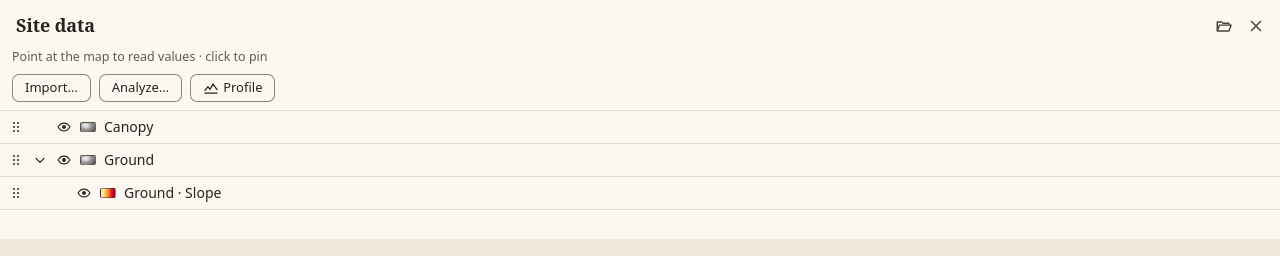
collapse and the view that survives switching panels › Show in Site data expands the item's source and opens it
Click the button named "Collapse Ground".
click(40, 160)  # box [32,152,48,168]
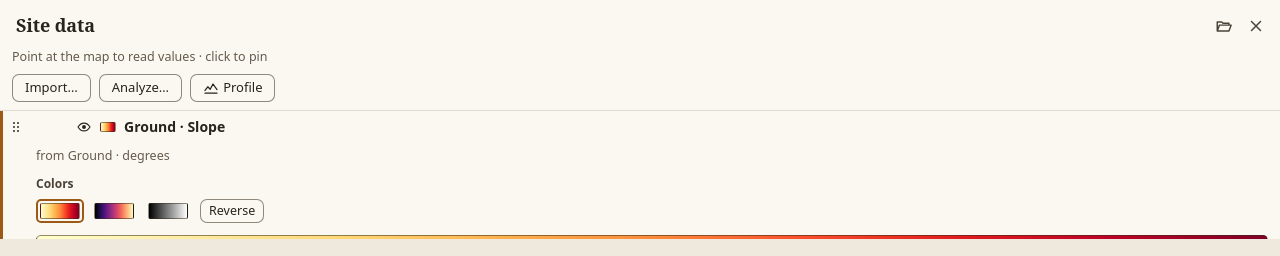
Expected: the button "Ground · Slope" is expanded, [120,113,1211,140]
